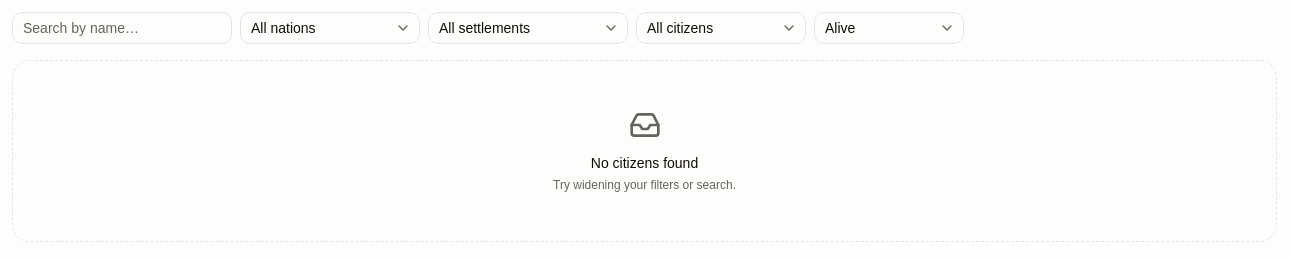
it: CitizensDirectoryTable › restricts the settlement options to the selected nation and resets the settlement filter on nation change
This screenshot has width=1292, height=259.
Check: the text "No citizens found" is shown, box [591,155,698,171]
Click the dropdown named "Filter by settlement".
click(528, 28)  # box [428,12,628,44]
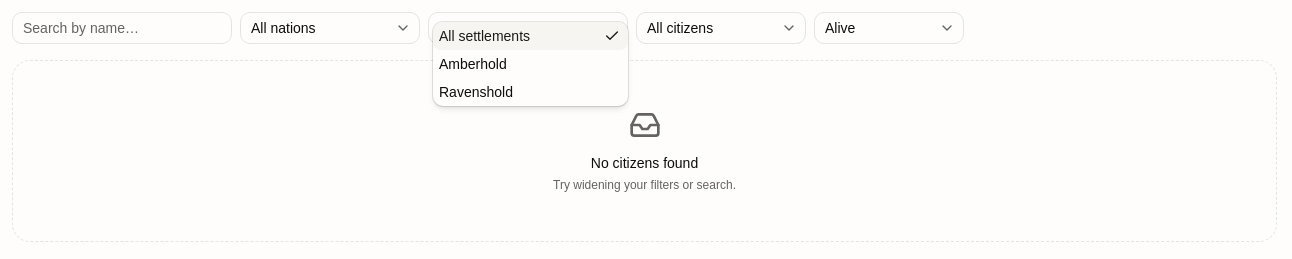
Check: the option "Amberhold" is shown
Check: the option "Ravenshold" is shown, box [439,84,513,100]
Click the option "Amberhold".
click(473, 64)  # box [439,56,507,72]
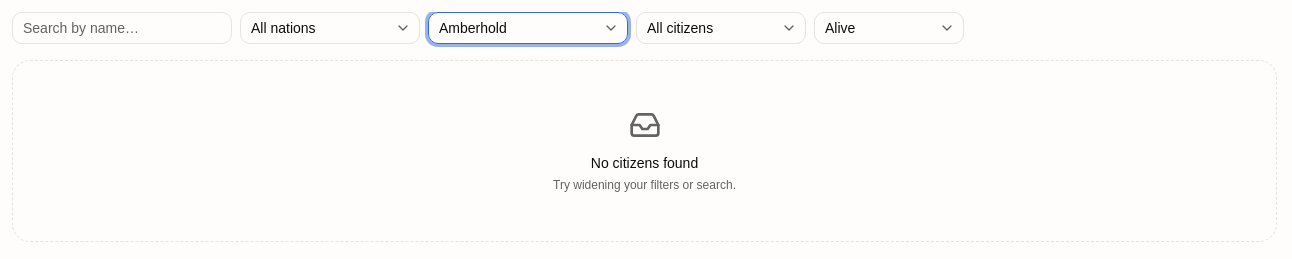
Click the dropdown named "Filter by nation".
click(330, 28)  # box [240,12,420,44]
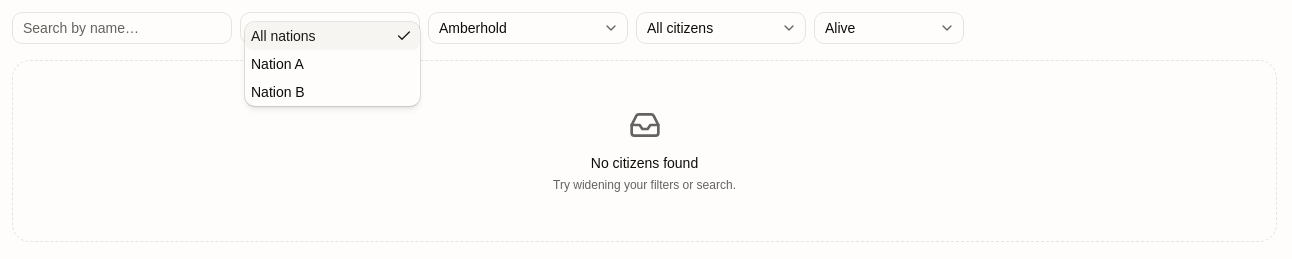
Click the option "Nation B".
click(278, 92)  # box [251,84,305,100]
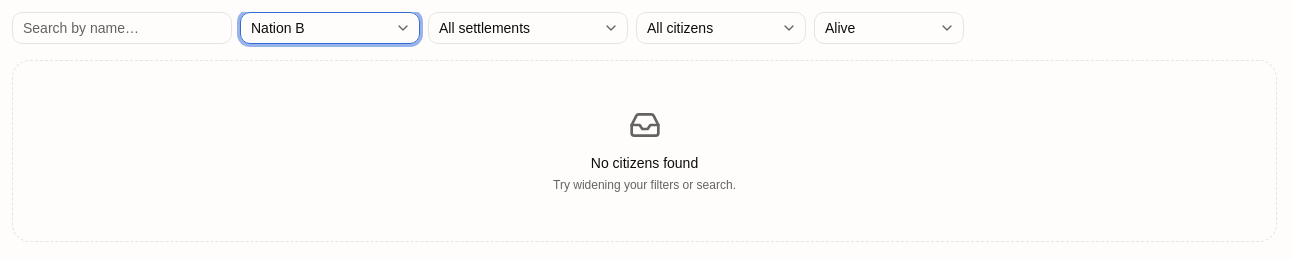
Check: the dropdown named "Filter by settlement" reads "All settlements"
Click the dropdown named "Filter by settlement".
click(528, 28)  # box [428,12,628,44]
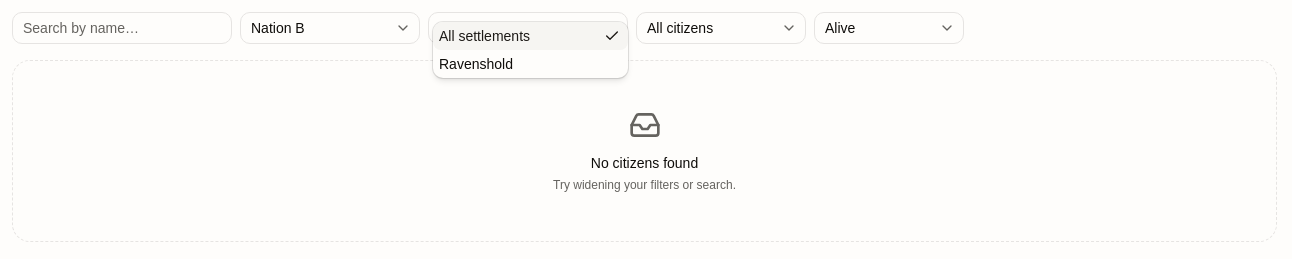
Check: the dropdown labelled "Amberhold" is not shown
Check: the option "Ravenshold" is shown, box [439,56,513,72]
